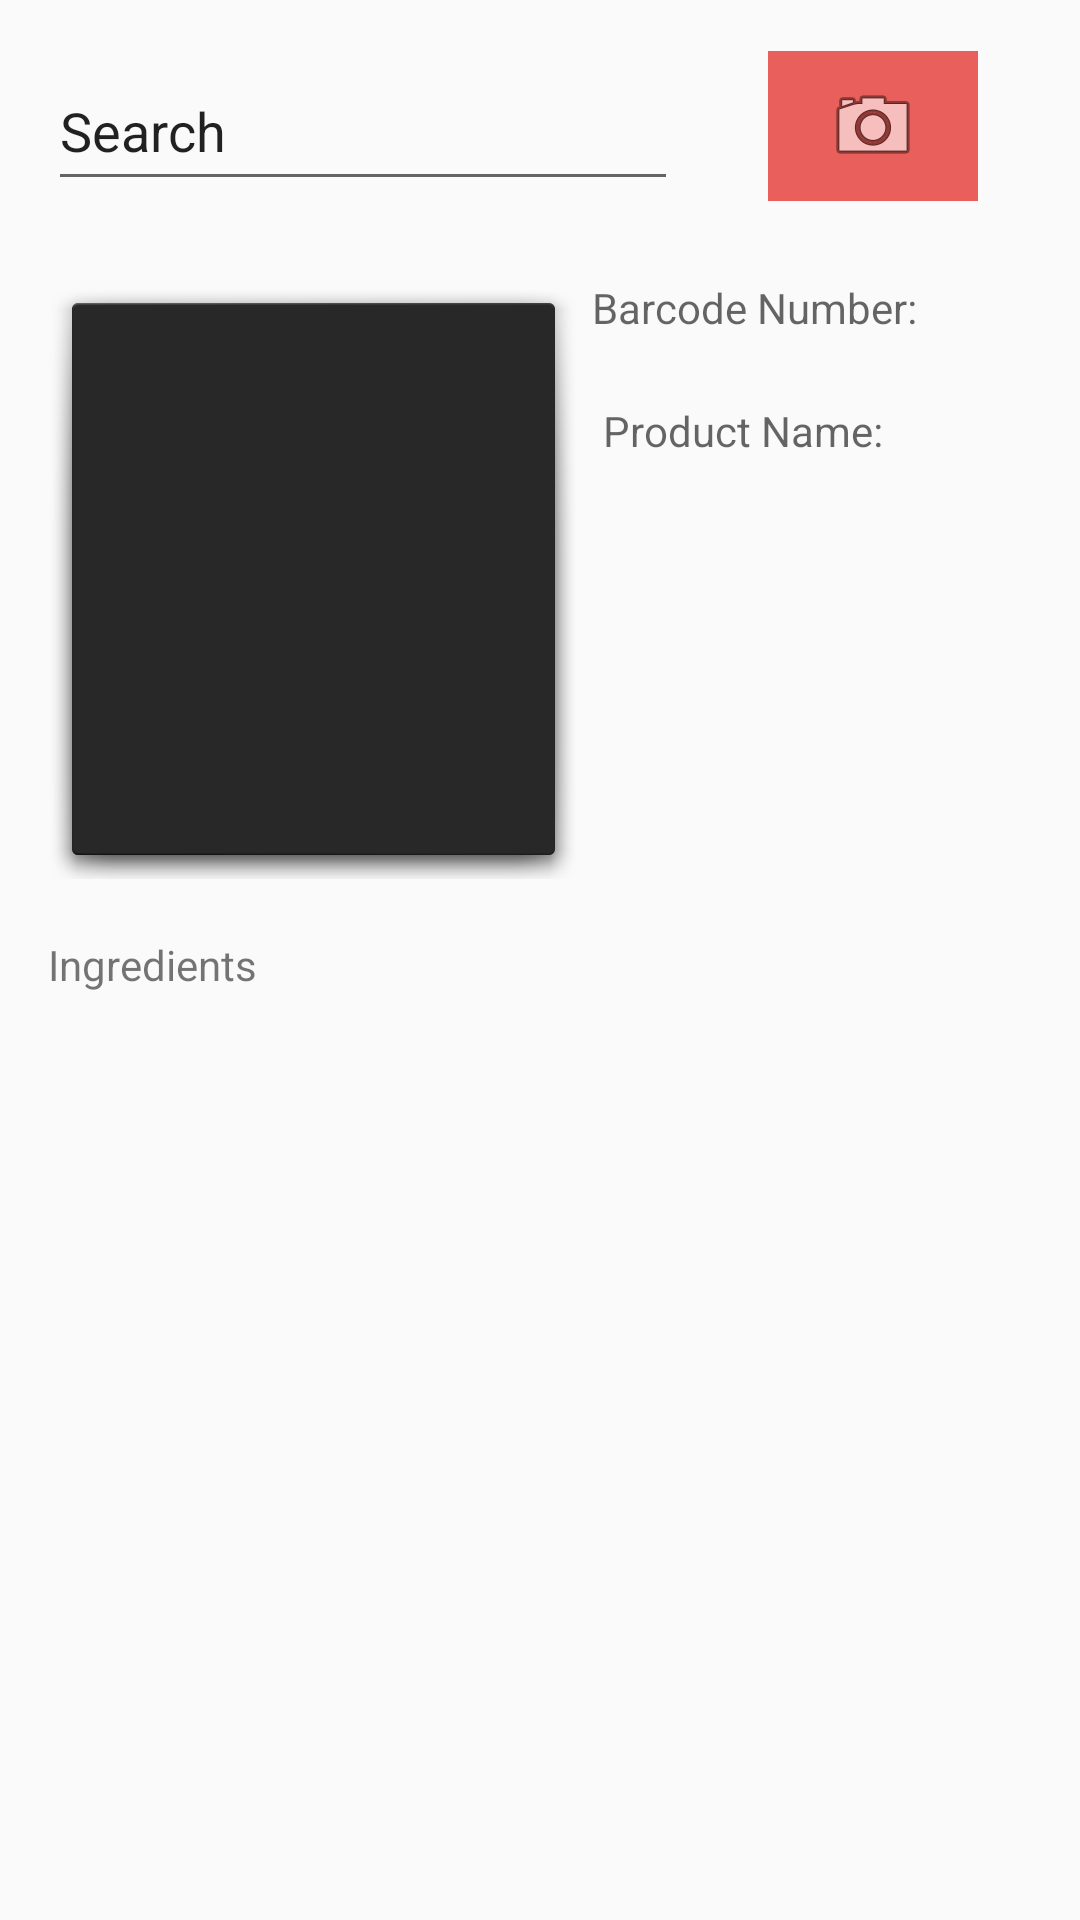

Icons on this 1080px x 1920px Android screen, each with the point to tap as (x=x, y=y):
camera: (x=873, y=126)
